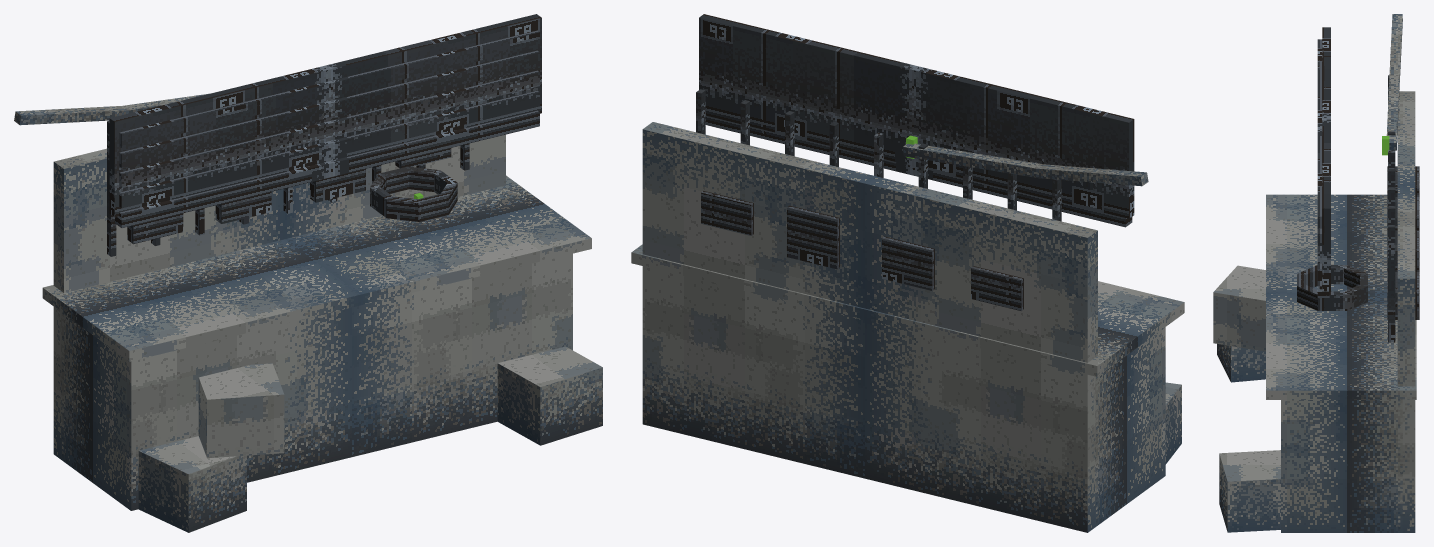
Rendered from qg_counter.glb.
3 views of the same model, side by side, from view 1: azimuth 30°, elevation 25°; view 2: azimuth 150°, elevation 25°; view 3: azimuth 270°, elevation 25° (orthographic). The views are drawn at different scales.
Parts seen in each view (by area): view 1: qg_counter; view 2: qg_counter; view 3: qg_counter.
Boxes of the visible parts, x1,y1,x2,y2 form: qg_counter: (14, 14, 602, 532); qg_counter: (631, 14, 1184, 532); qg_counter: (1213, 14, 1419, 532).
Size of the model in its own units: 3.39 by 2.4 by 1.4.
3 materials, 2 textured.
